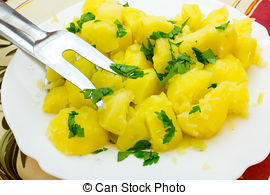boiled potatoes: (53, 7, 248, 152)
